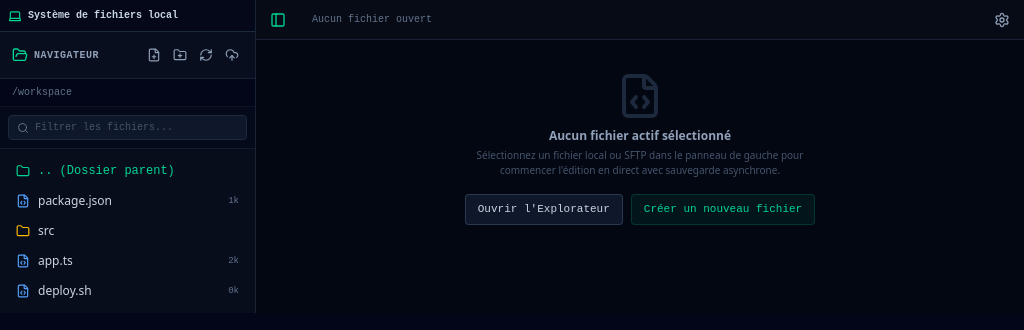
MonacoFileEditor Component › charge les préférences de l'éditeur depuis localStorage
Click the button titled "Paramètres de l'éditeur": {"x": 1002, "y": 20} top-left (988, 6), bottom-right (1016, 34)
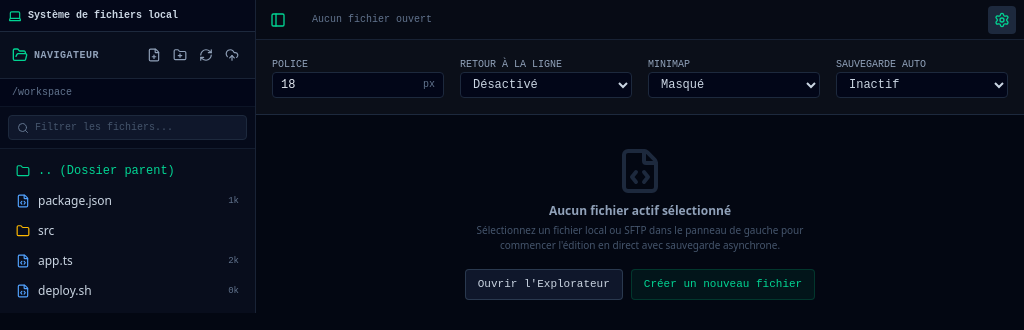
expect the number field showing "18" is shown: met, box top-left (281, 77), bottom-right (423, 93)
expect the dropdown below "Retour à la ligne" shows "Désactivé": met, box top-left (460, 72), bottom-right (632, 98)
expect the dropdown below "Minimap" shows "Masqué": met, box top-left (648, 72), bottom-right (820, 98)
